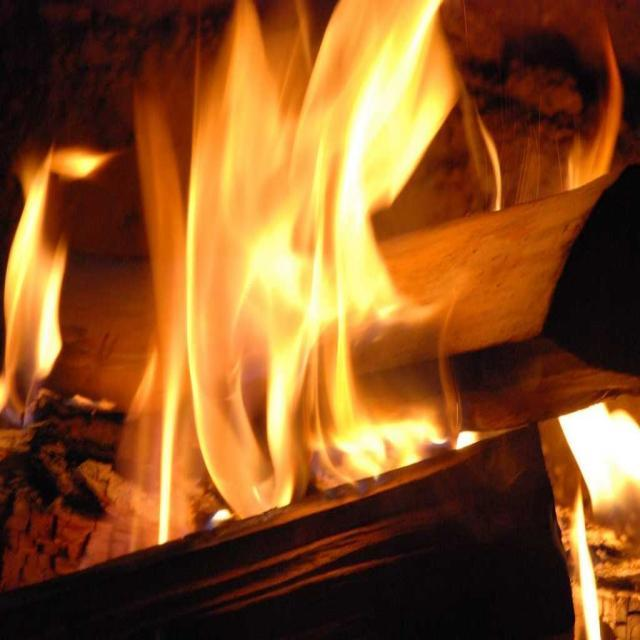Fire: (149, 74, 408, 468)
